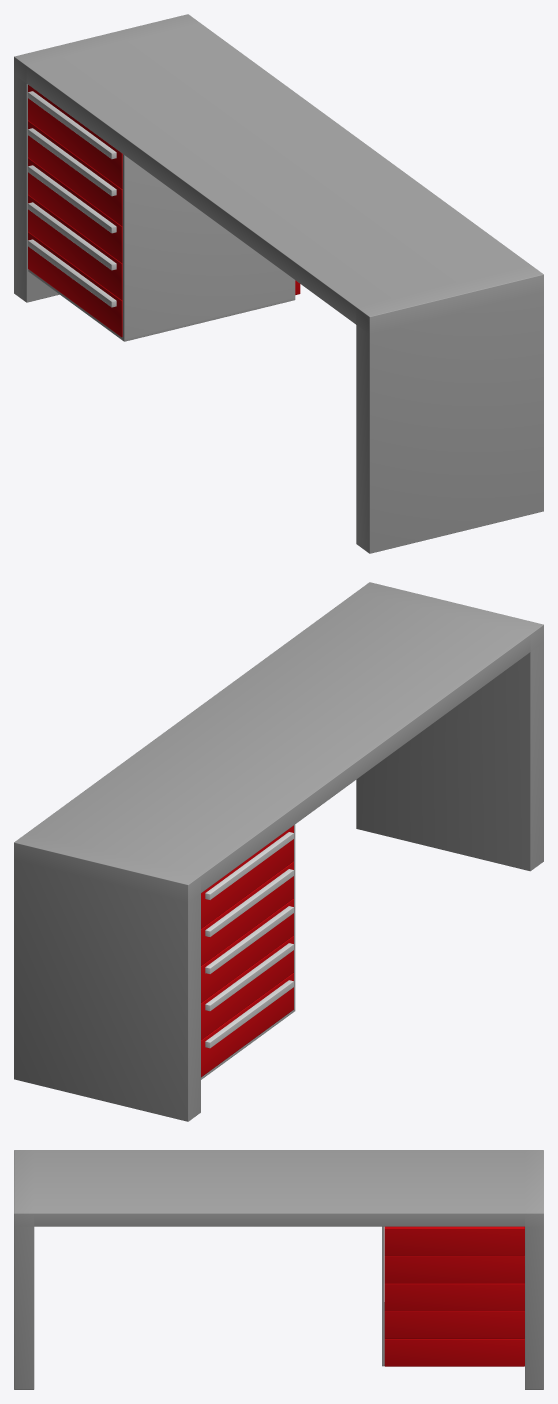
The model's file is SM_Desk.fbx.
3 views of the same model, one above another, from view 1: azimuth 30°, elevation 25°; view 2: azimuth 150°, elevation 25°; view 3: azimuth 270°, elevation 25° (orthographic). The views are drawn at different scales.
Parts seen in each view (by area): view 1: support_bureau.001, poignee_09.010, poignee_09.011, poignee_09.013, poignee_09.012, poignee_09.014; view 2: support_bureau.001, poignee_09.012, poignee_09.011, poignee_09.013, poignee_09.010, poignee_09.014; view 3: support_bureau.001, poignee_09.014, poignee_09.012, poignee_09.013, poignee_09.011, poignee_09.010.
Boxes of the visible parts, box(x1,y1,x2,y2) form: support_bureau.001: box(14, 14, 543, 553); poignee_09.010: box(28, 232, 300, 337); poignee_09.011: box(28, 195, 122, 300); poignee_09.013: box(28, 121, 122, 226); poignee_09.012: box(28, 158, 122, 263); poignee_09.014: box(28, 85, 122, 188); support_bureau.001: box(14, 582, 543, 1121); poignee_09.012: box(201, 898, 293, 1003); poignee_09.011: box(201, 935, 293, 1040); poignee_09.013: box(201, 861, 293, 965); poignee_09.010: box(201, 973, 293, 1077); poignee_09.014: box(201, 825, 293, 928); support_bureau.001: box(14, 1150, 543, 1389); poignee_09.014: box(384, 1226, 524, 1256); poignee_09.012: box(384, 1283, 524, 1311); poignee_09.013: box(384, 1256, 524, 1283); poignee_09.011: box(384, 1311, 524, 1338); poignee_09.010: box(384, 1338, 524, 1366).
Size of the model in its own units: 65.86 by 81.24 by 221.
